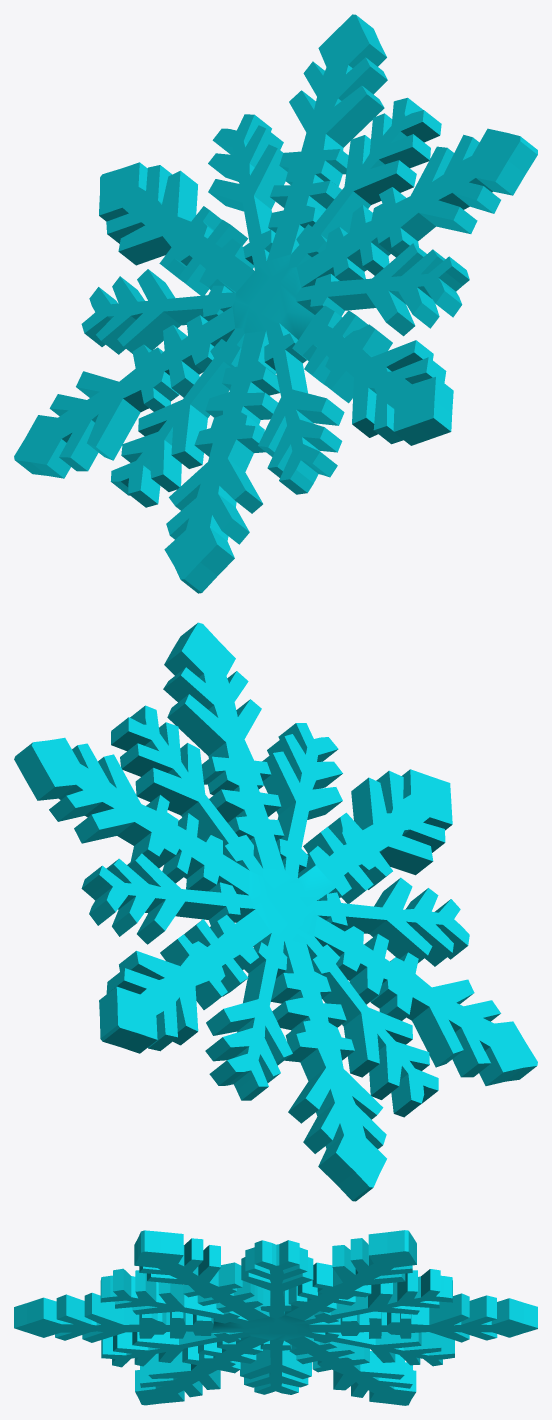
File: ShopFreezer.fbx
3 views of the same model, one above another, from view 1: azimuth 30°, elevation 25°; view 2: azimuth 150°, elevation 25°; view 3: azimuth 270°, elevation 25° (orthographic). The views are drawn at different scales.
Visible parts, largest first — view 1: Plane.004; view 2: Plane.004; view 3: Plane.004.
Boxes of the visible parts, <box> form: Plane.004: <box>14,14,537,593</box>; Plane.004: <box>14,622,537,1201</box>; Plane.004: <box>14,1230,537,1405</box>.
Bounding box in the file's own units: 0.8345 × 0.8458 × 1.34.
